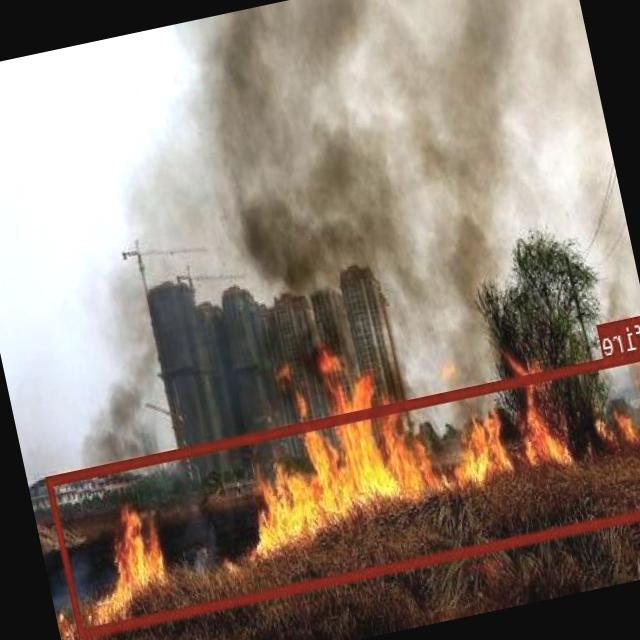fire: (46, 347, 640, 635)
